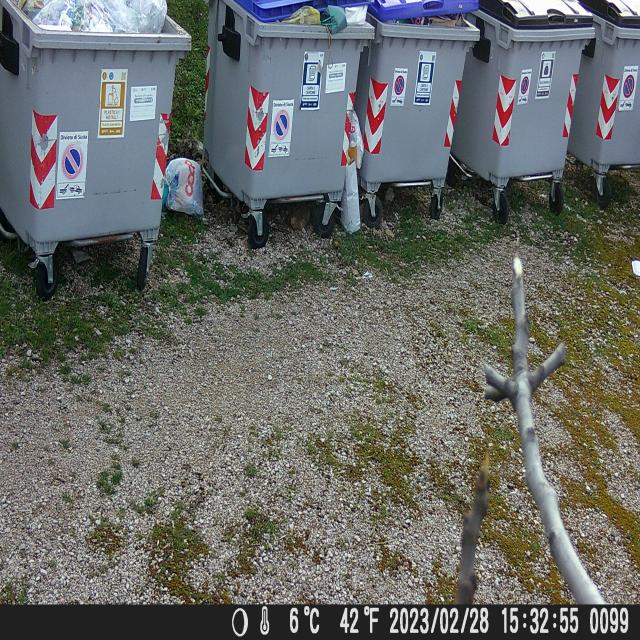sampah-detection: (15, 0, 176, 43), (273, 0, 373, 37), (341, 112, 363, 236), (166, 154, 206, 216)
